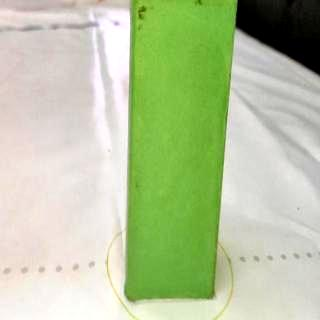greenbox: (124, 0, 240, 300)
